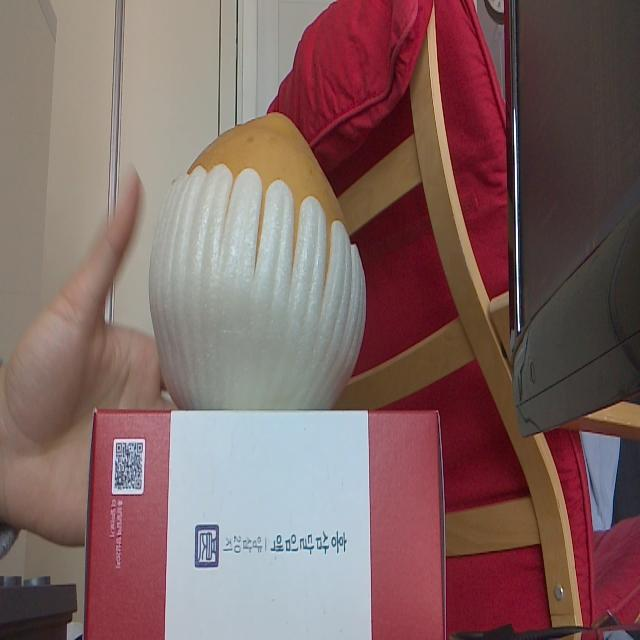pear: (151, 110, 367, 410)
